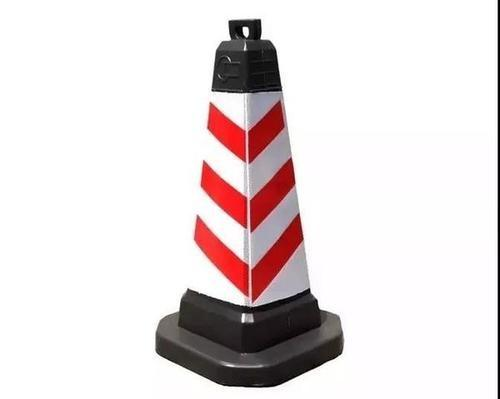cone_barrel: (176, 10, 337, 379)
